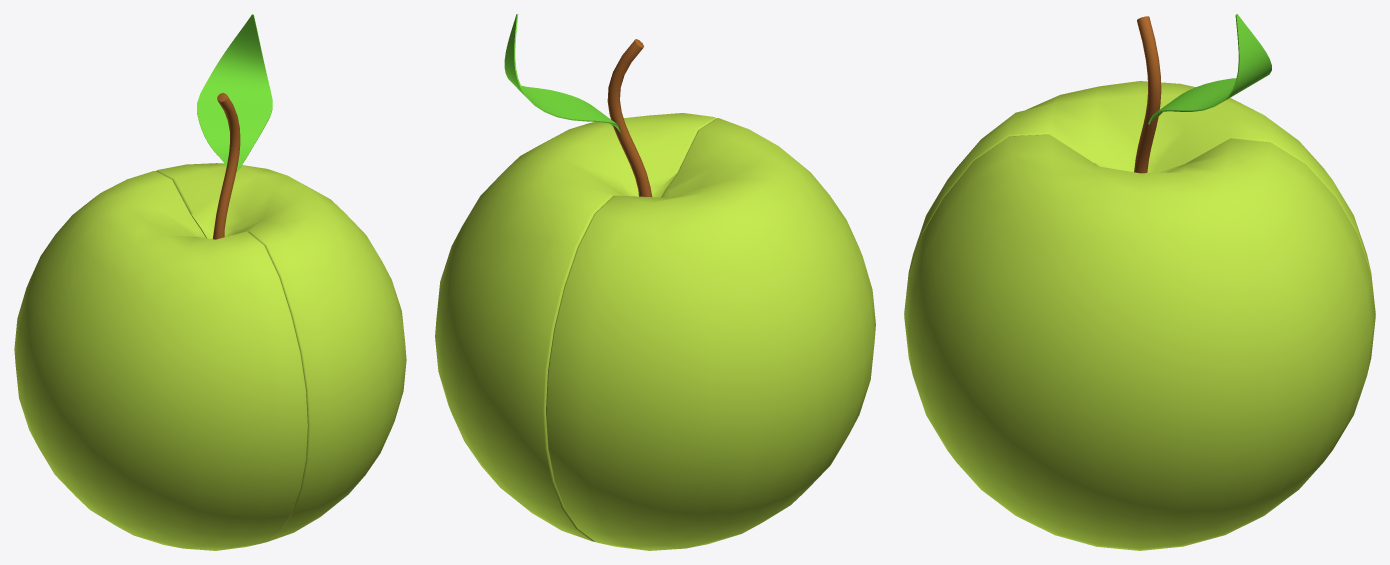
The model's file is Apple_pieces.fbx.
3 renders of one model, left to right at view 1: azimuth 30°, elevation 25°; view 2: azimuth 150°, elevation 25°; view 3: azimuth 270°, elevation 25°, orthographic. The views are drawn at different scales.
Visible parts, largest first — view 1: Apple_piece_01, Apple_piece_02; view 2: Apple_piece_01, Apple_piece_02; view 3: Apple_piece_02, Apple_piece_01.
Boxes of the visible parts, x1,y1,x2,y2 form: Apple_piece_01: [14, 171, 307, 550]; Apple_piece_02: [156, 14, 406, 542]; Apple_piece_01: [546, 118, 875, 550]; Apple_piece_02: [435, 14, 716, 541]; Apple_piece_02: [904, 14, 1375, 550]; Apple_piece_01: [904, 81, 1375, 314].
Bounding box in the file's own units: 396 × 510 × 396.
